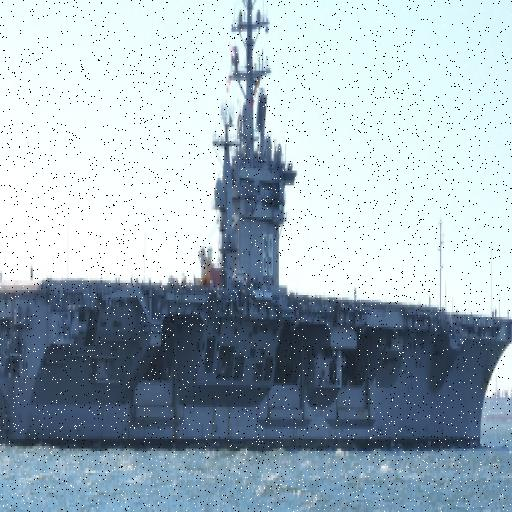Portanaves: (1, 1, 512, 459)
